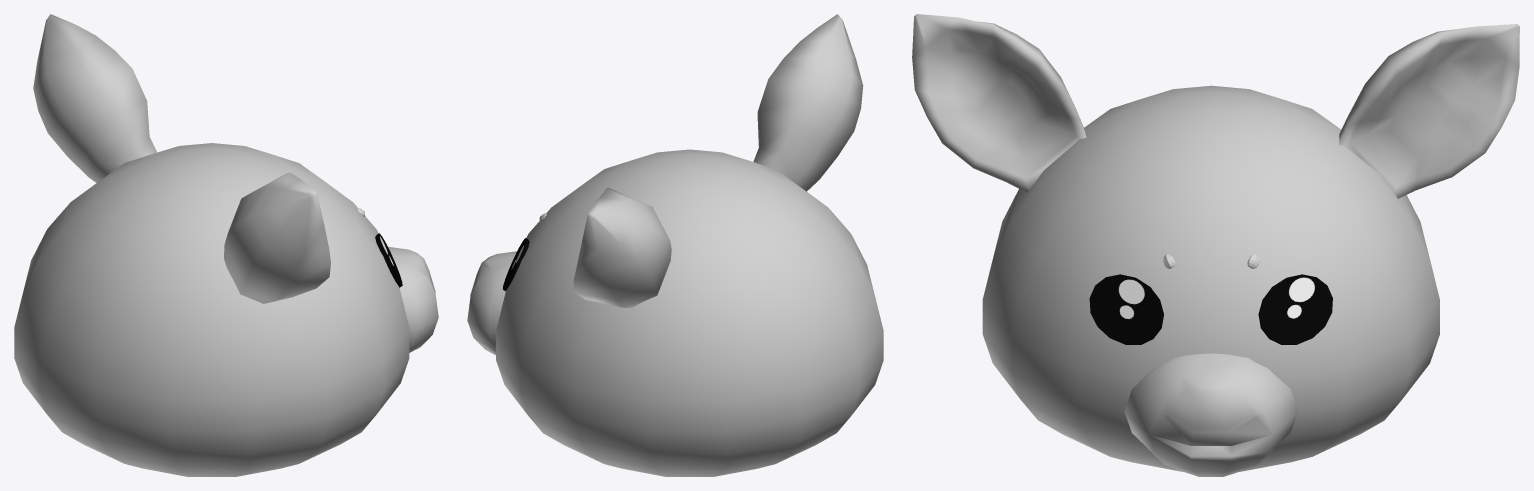
File: [LowPoly] Deer_Cute.fbx
3 views of the same model, side by side, from view 1: azimuth 30°, elevation 25°; view 2: azimuth 150°, elevation 25°; view 3: azimuth 270°, elevation 25° (orthographic). The views are drawn at different scales.
Parts seen in each view (by area): view 1: Head, L_Ear, R_Ear, Snout, L_Eye; view 2: Head, R_Ear, L_Ear, Snout, L_Eye; view 3: Head, L_Ear, R_Ear, Snout, L_Eye.
Boxes of the visible parts, x1,y1,x2,y2 form: Head: (14,143,409,476); L_Ear: (33,14,156,182); R_Ear: (224,172,330,303); Snout: (388,246,438,352); L_Eye: (375,233,402,287); Head: (496,149,883,476); R_Ear: (753,14,863,191); L_Ear: (573,187,671,307); Snout: (467,251,516,355); L_Eye: (502,238,529,291); Head: (982,85,1439,471); L_Ear: (1339,24,1519,198); R_Ear: (912,14,1086,192); Snout: (1124,353,1298,476); L_Eye: (1089,274,1332,344).
Size of the model in its own units: 224 by 202 by 263.
